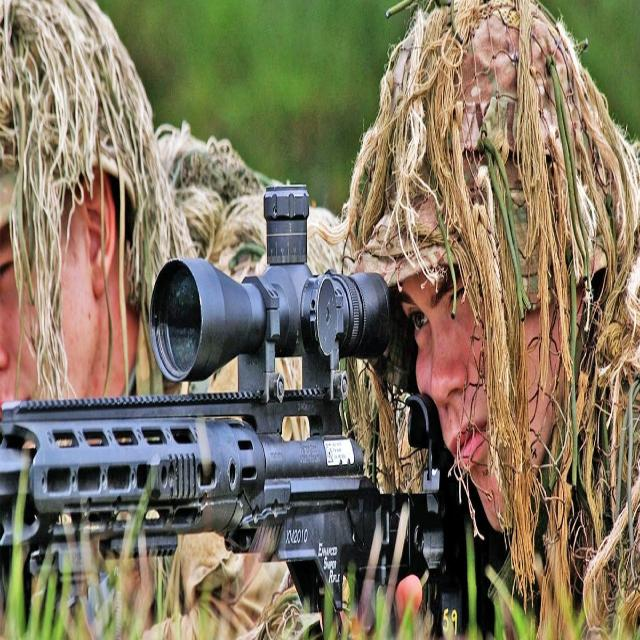Rifle: (0, 258, 509, 640)
